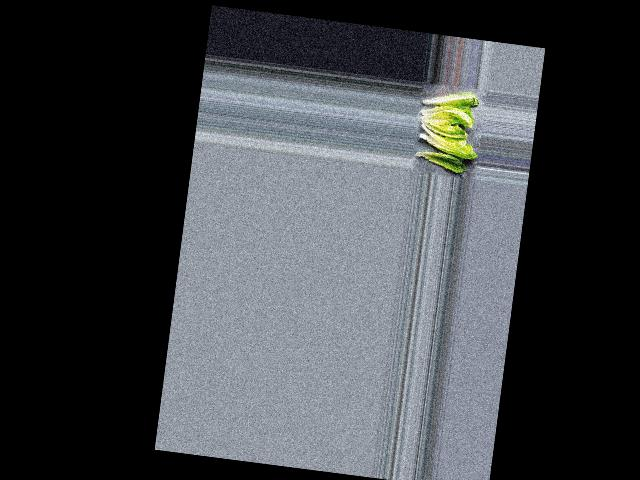lettuce: (412, 148, 467, 172)
